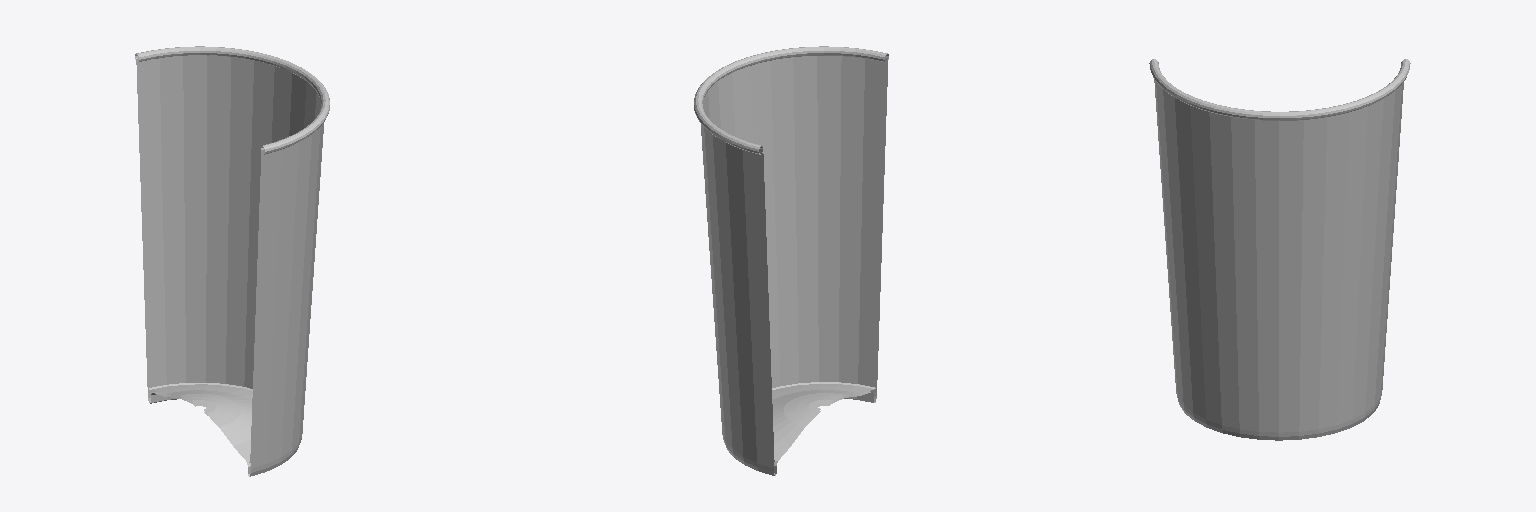
Rendered from CupModel.obj.
3 renders of one model, left to right at view 1: azimuth 30°, elevation 25°; view 2: azimuth 150°, elevation 25°; view 3: azimuth 270°, elevation 25°, orthographic.
Visible parts, largest first — view 1: cup; view 2: cup; view 3: cup.
Boxes of the visible parts, x1=… form: cup: x1=135, y1=46, x2=329, y2=476; cup: x1=694, y1=46, x2=888, y2=475; cup: x1=1149, y1=59, x2=1410, y2=440.
Bounding box in the file's own units: 0.0564 × 0.1605 × 0.112.